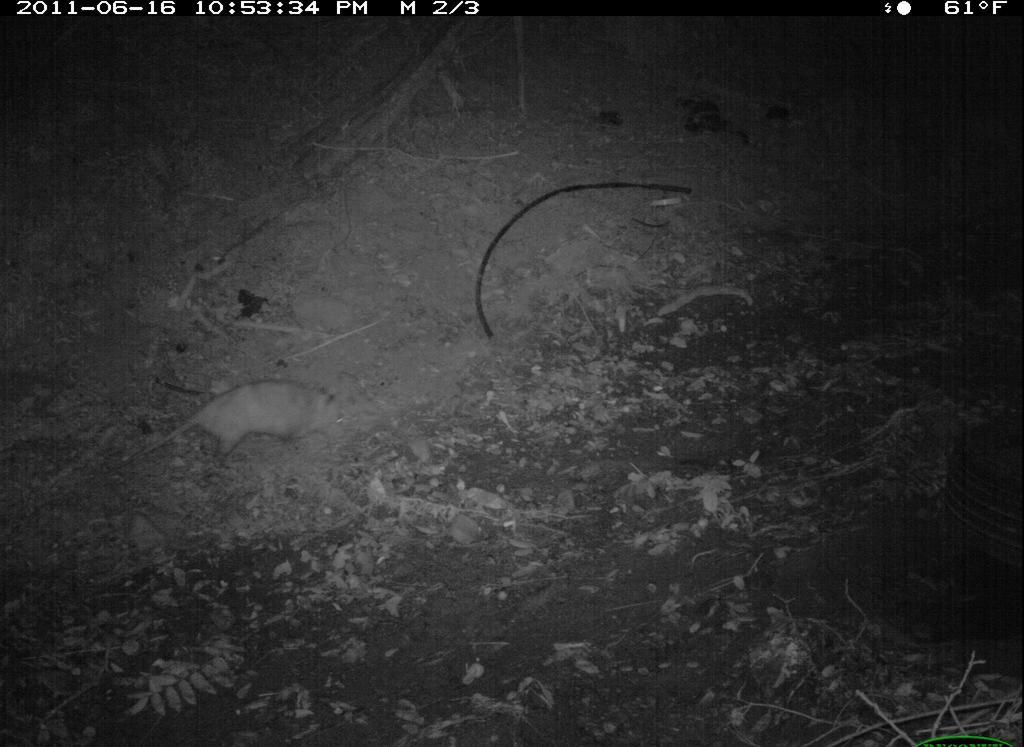opossum: (146, 372, 354, 474)
